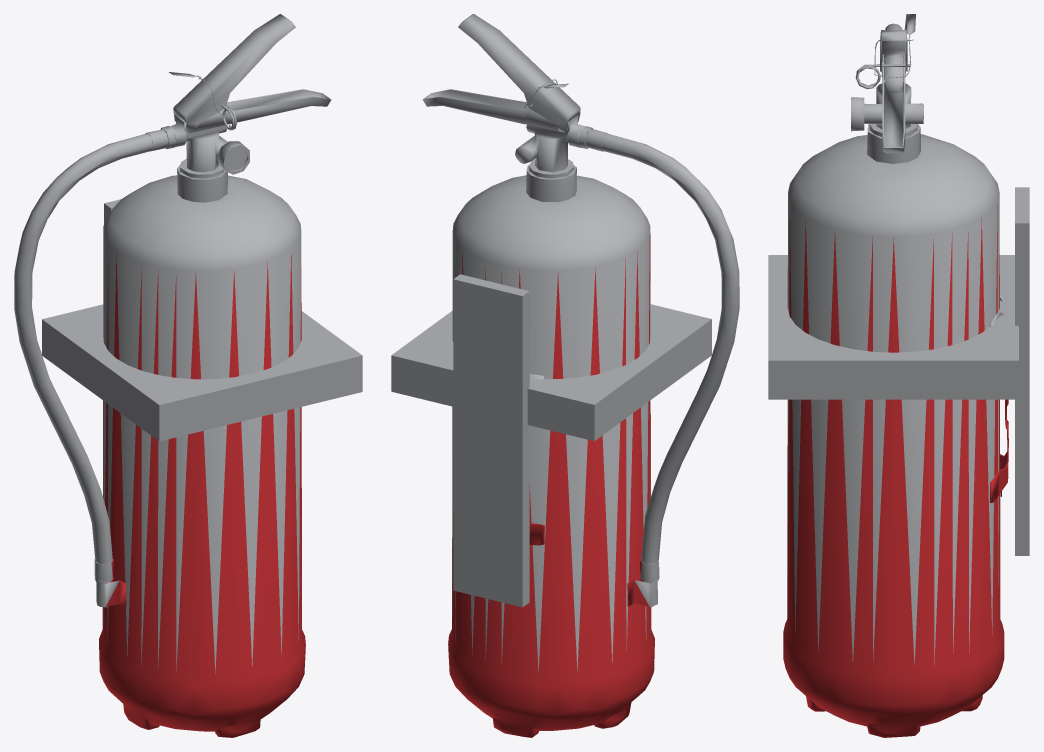
The model's file is SM_Extinguisher.glb.
3 views of the same model, side by side, from view 1: azimuth 30°, elevation 25°; view 2: azimuth 150°, elevation 25°; view 3: azimuth 270°, elevation 25° (orthographic). The views are drawn at different scales.
Parts seen in each view (by area): view 1: SM_Extinguisher; view 2: SM_Extinguisher; view 3: SM_Extinguisher.
Boxes of the visible parts, <box> form: SM_Extinguisher: <box>14,14,362,737</box>; SM_Extinguisher: <box>391,14,739,737</box>; SM_Extinguisher: <box>768,14,1029,737</box>.
Bounding box in the file's own units: 0.3144 × 0.6451 × 0.2135.
